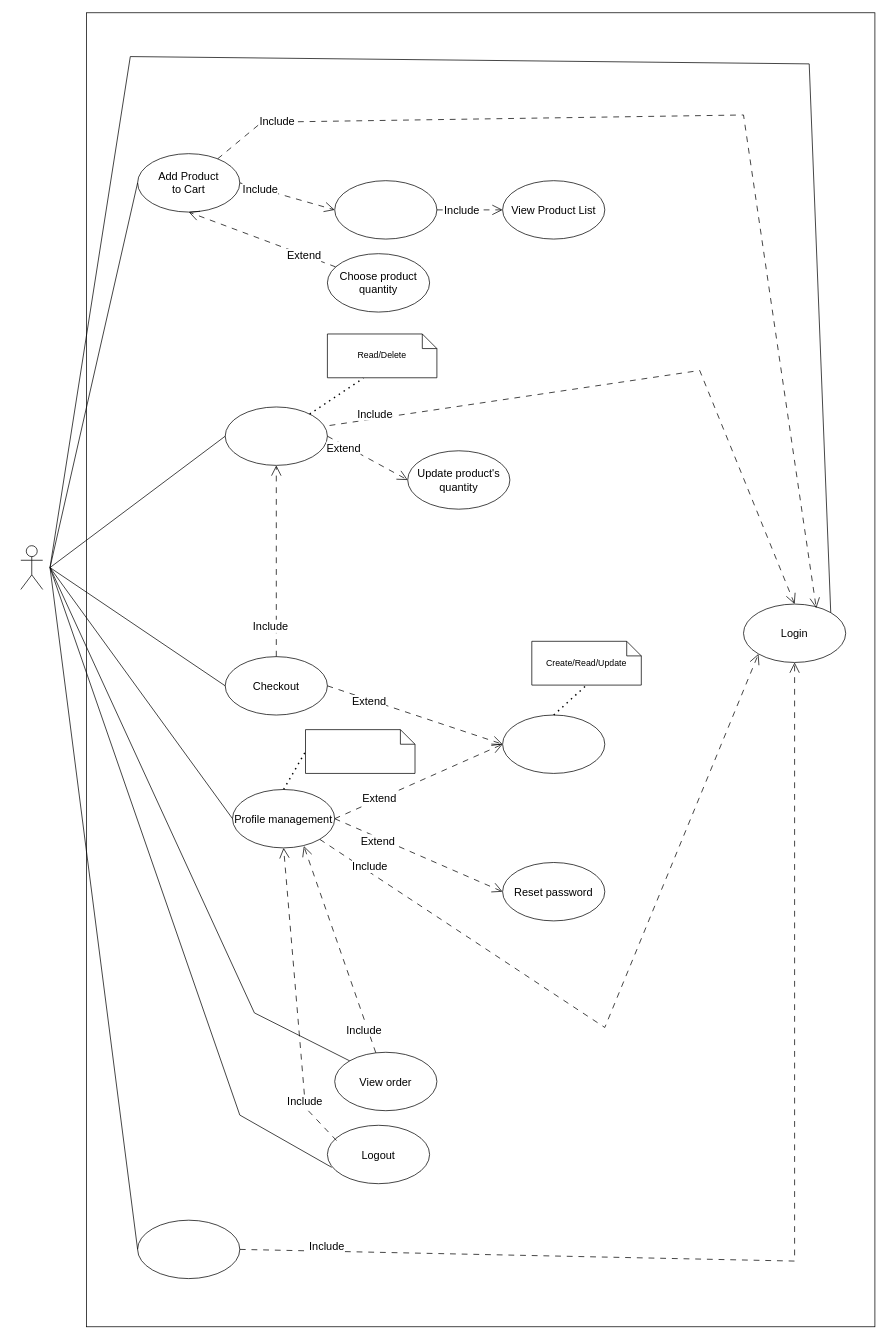
This 888x1340 diagram has some shape labels left out. The shapes that lost their labels are listed below. From the top down, each one's centre as x and y in pixels, then its label:
pixel 385 209: Product Detail
pixel 275 435: Cart management
pixel 31 567: Customer
pixel 360 751: Read/Update
pixel 553 743: Manage delivery address
pixel 188 1249: Receive notification
